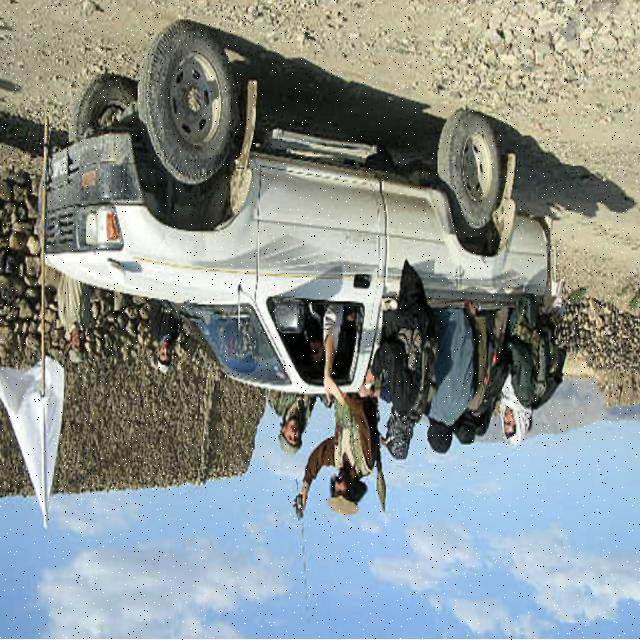bazooka: (372, 454, 393, 517)
